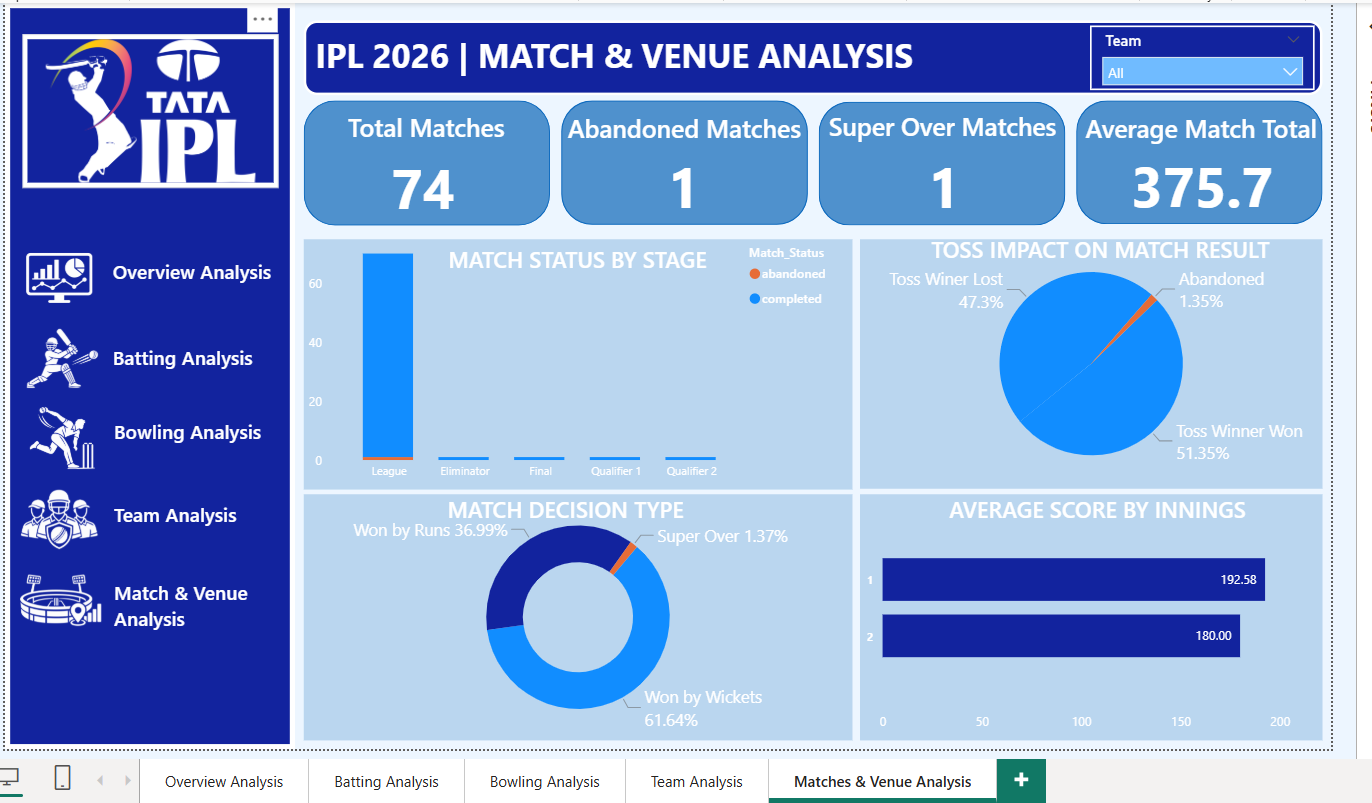

This screenshot's page, from the dashboard's own definition file:
{"tool":"powerbi","page":{"name":"Matches & Venue Analysis","canvas":[1280,720],"ordinal":4},"visuals":[{"type":"textbox","box":[288.3,16.9,983.2,72.4],"z":0},{"type":"shape","box":[288.3,94.1,237.7,120.6],"z":1000},{"type":"shape","box":[536.6,94.6,238,120],"z":2000},{"type":"shape","box":[785.3,95.8,238,119.4],"z":3000},{"type":"shape","box":[1033.9,94.1,237.7,119.4],"z":4000},{"type":"shape","box":[0,0,279.9,720.2],"z":5000},{"type":"card","fields":{"Values":["Measures_Table.Total_Matches"]},"box":[313.7,135.1,179.8,83.2],"z":6000},{"type":"slicer","fields":{"Values":["dim_team.team_code"]},"box":[1047.2,21.7,217.2,62.7],"z":7000},{"type":"card","fields":{"Values":["Measures_Table.Total_Abandoned"]},"box":[557.4,133.9,195.4,83.2],"z":8000},{"type":"card","fields":{"Values":["Measures_Table.Super_Over_Matches"]},"box":[809.5,133.9,194.2,83.2],"z":9000},{"type":"card","fields":{"Values":["Measures_Table.Average_Match_Total"]},"box":[1047.2,133.9,217.2,80.8],"z":10000},{"type":"textbox","box":[1029.1,100.1,250.9,49.5],"z":11000},{"type":"image","box":[16.9,30.2,247.3,148.4],"z":12000},{"type":"columnChart","fields":{"Category":["matches.stage"],"Y":["Measures_Table.Total_Matches"],"Series":["matches.match_result"]},"box":[288.3,228,529.6,241.3],"z":13000},{"type":"textbox","box":[306.4,98.9,200.3,50.7],"z":14000},{"type":"textbox","box":[530.8,100.1,249.7,49.5],"z":15000},{"type":"textbox","box":[780.6,97.7,248.5,51.9],"z":16000},{"type":"textbox","box":[324.5,228,456,45.8],"z":17000},{"type":"clusteredBarChart","fields":{"Category":["matches.VenueName"],"Y":["Avg(matches.first_ings_score)","Avg(matches.second_ings_score)"]},"box":[828.8,228,442.8,483.8],"z":18000},{"type":"textbox","box":[844.5,219.6,419.8,54.3],"z":19000},{"type":"donutChart","fields":{"Y":["CountNonNull(matches.match_id)"],"Category":["matches.Margin_Type"]},"box":[288.3,474.1,529.6,237.7],"z":20000},{"type":"textbox","box":[340.2,469.3,401.7,39.8],"z":21000},{"type":"image","box":[6,228.5,92.9,72.4],"z":22000},{"type":"image","box":[7.2,306.3,92.9,72.4],"z":23000},{"type":"image","box":[8.4,384.1,92.9,72.4],"z":24000},{"type":"image","box":[6,461.9,92.9,72.4],"z":25000},{"type":"image","box":[6,539.5,92.9,72.4],"z":26000},{"type":"textbox","box":[98.9,241.3,189.4,42.2],"z":27000},{"type":"textbox","box":[98.9,324.5,181,44.6],"z":28000},{"type":"textbox","box":[100.1,395.7,179.8,45.8],"z":29000},{"type":"textbox","box":[100.1,476.5,179.8,48.3],"z":30000},{"type":"textbox","box":[100.1,551.3,190.6,60.3],"z":31000}]}

Visuals, with their boxes on the page's 1280x720 design canvas (x1, y1, x2, y2). These are canvas units, not pixel positions in the 1372x803 screenshot, which may show the page scaled, cropped or inside an application window:
textbox: Rect(288, 17, 1272, 89)
shape: Rect(288, 94, 526, 215)
shape: Rect(537, 95, 775, 215)
shape: Rect(785, 96, 1023, 215)
shape: Rect(1034, 94, 1272, 214)
shape: Rect(0, 0, 280, 720)
card - Measures_Table.Total_Matches: Rect(314, 135, 494, 218)
slicer - dim_team.team_code: Rect(1047, 22, 1264, 84)
card - Measures_Table.Total_Abandoned: Rect(557, 134, 753, 217)
card - Measures_Table.Super_Over_Matches: Rect(810, 134, 1004, 217)
card - Measures_Table.Average_Match_Total: Rect(1047, 134, 1264, 215)
textbox: Rect(1029, 100, 1280, 150)
image: Rect(17, 30, 264, 179)
columnChart - matches.stage x Measures_Table.Total_Matches: Rect(288, 228, 818, 469)
textbox: Rect(306, 99, 507, 150)
textbox: Rect(531, 100, 780, 150)
textbox: Rect(781, 98, 1029, 150)
textbox: Rect(324, 228, 780, 274)
clusteredBarChart - matches.VenueName x Avg(matches.first_ings_score): Rect(829, 228, 1272, 712)
textbox: Rect(844, 220, 1264, 274)
donutChart - CountNonNull(matches.match_id) x matches.Margin_Type: Rect(288, 474, 818, 712)
textbox: Rect(340, 469, 742, 509)
image: Rect(6, 228, 99, 301)
image: Rect(7, 306, 100, 379)
image: Rect(8, 384, 101, 456)
image: Rect(6, 462, 99, 534)
image: Rect(6, 540, 99, 612)
textbox: Rect(99, 241, 288, 284)
textbox: Rect(99, 324, 280, 369)
textbox: Rect(100, 396, 280, 442)
textbox: Rect(100, 476, 280, 525)
textbox: Rect(100, 551, 291, 612)
